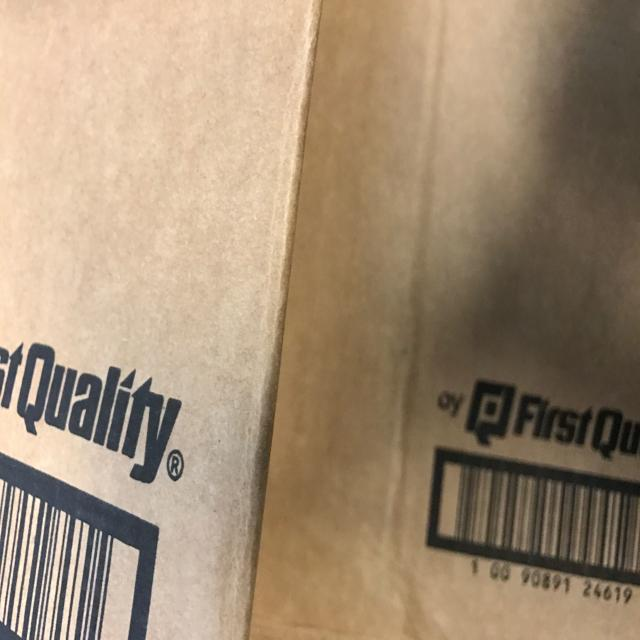cardboard: (248, 1, 639, 638), (0, 1, 323, 638)
